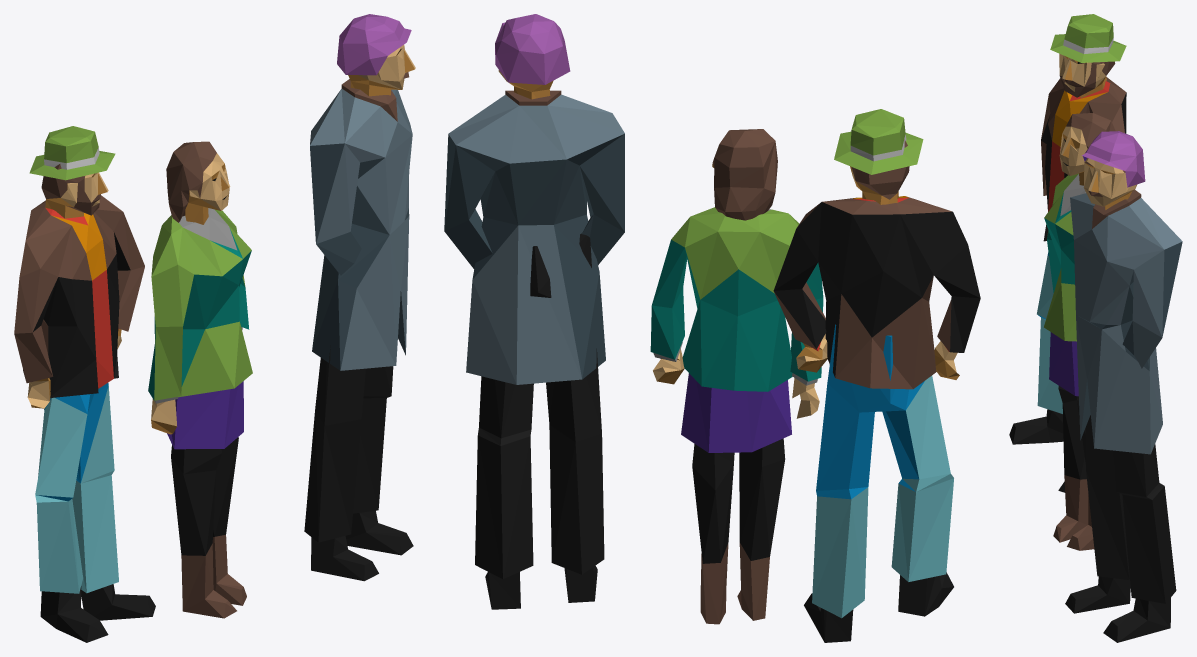
Rendered from multitud.glb.
3 views of the same model, side by side, from view 1: azimuth 30°, elevation 25°; view 2: azimuth 150°, elevation 25°; view 3: azimuth 270°, elevation 25° (orthographic). The views are drawn at different scales.
Visible parts, largest first — view 1: group611322402; view 2: group611322402; view 3: group611322402.
Part boxes in pixels (x1,y1,x2,y2): group611322402: (14, 14, 415, 642); group611322402: (444, 14, 980, 642); group611322402: (1009, 14, 1182, 642).
Bounding box in the file's own units: 1.52 × 1.75 × 0.5608.
